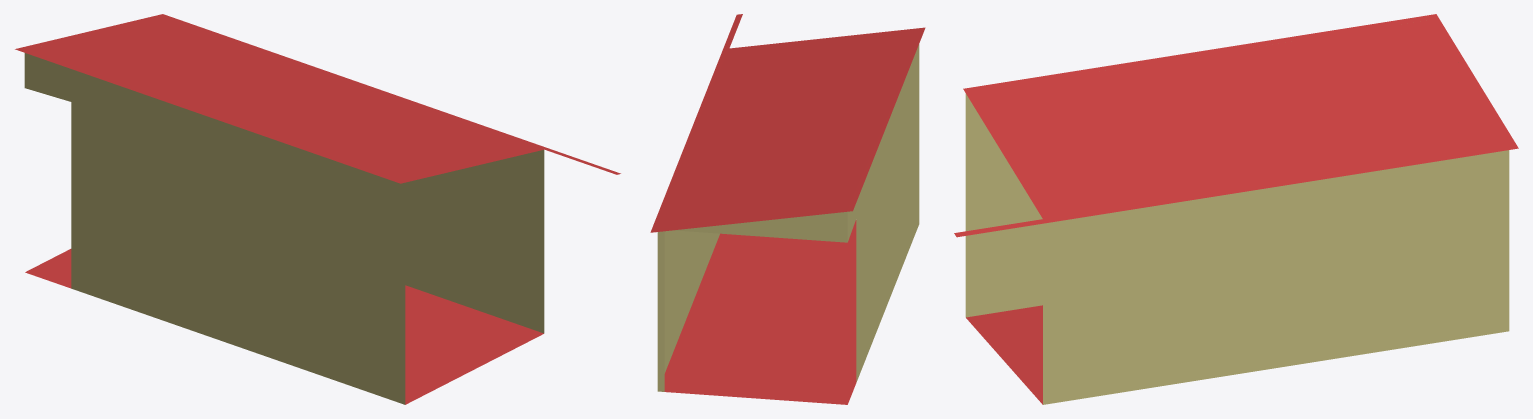
3 views of the same model, side by side, from view 1: azimuth 30°, elevation 25°; view 2: azimuth 150°, elevation 25°; view 3: azimuth 270°, elevation 25° (orthographic). The views are drawn at different scales.
Bounding box in the file's own units: 14.66 × 19.22 × 8.48.
